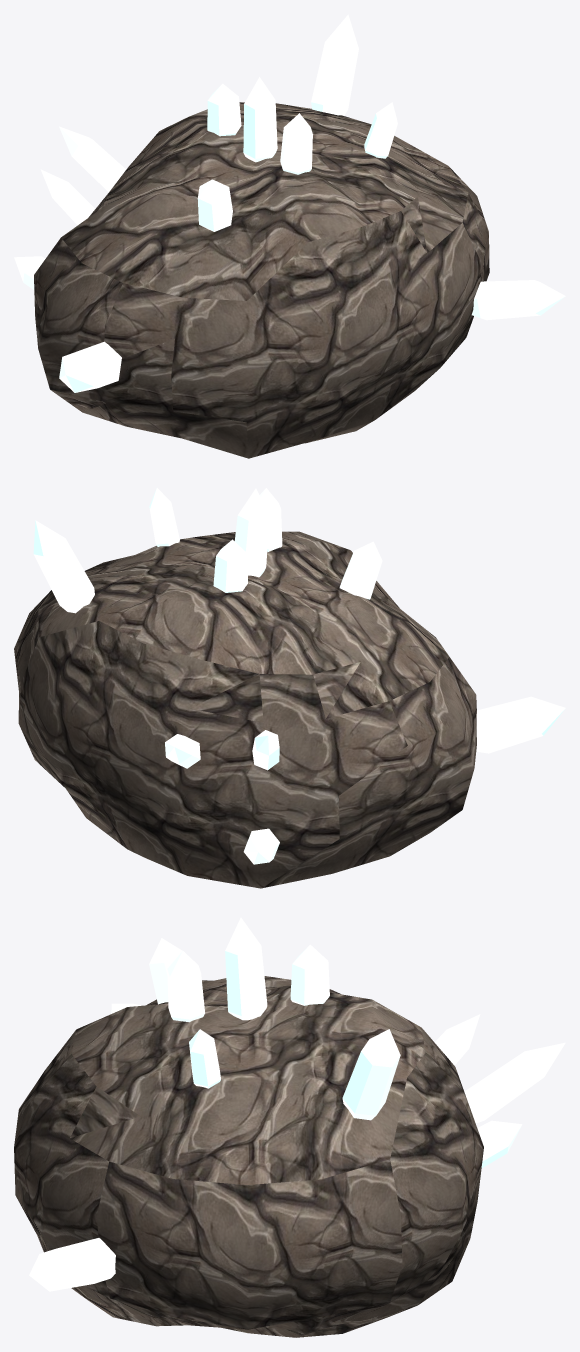
Rendered from ore_mithril.glb.
3 renders of one model, top to bottom at view 1: azimuth 30°, elevation 25°; view 2: azimuth 150°, elevation 25°; view 3: azimuth 270°, elevation 25°, orthographic. The views are drawn at different scales.
Parts seen in each view (by area): view 1: ore_mithril; view 2: ore_mithril; view 3: ore_mithril.
Part boxes in pixels (x1,y1,x2,y2): ore_mithril: (14,14,565,458); ore_mithril: (14,488,565,888); ore_mithril: (14,917,565,1337).
Bounding box in the file's own units: 2.29 × 1.48 × 1.99.
2 materials, 1 textured.
